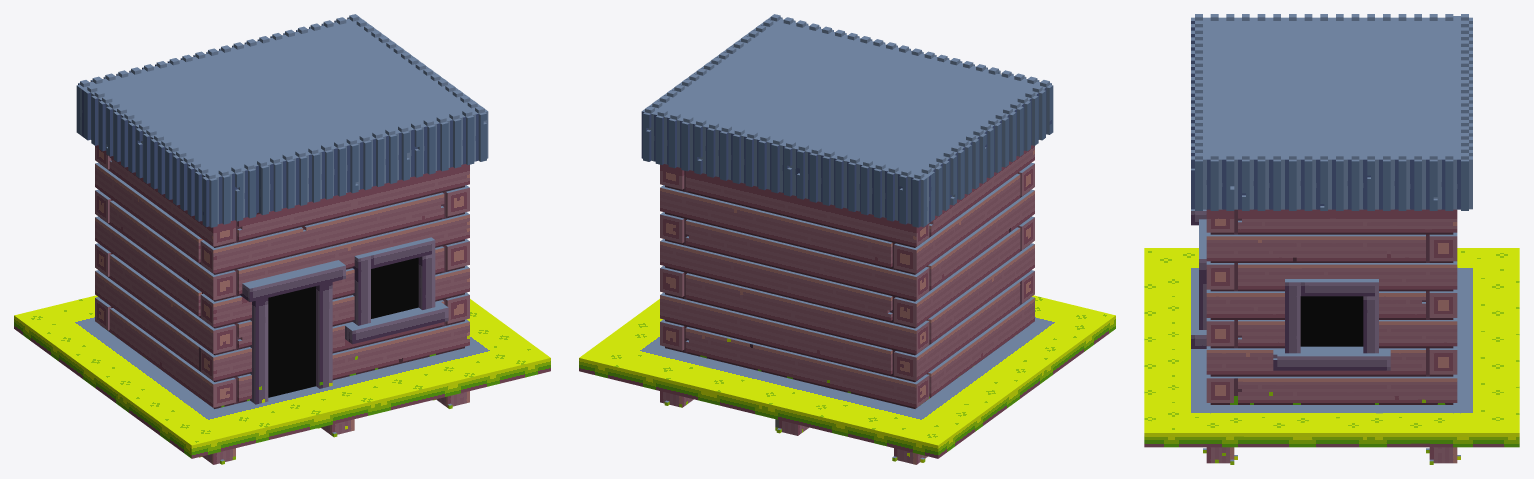
File: grave_cabin_natureao.fezao.glb
3 renders of one model, left to right at view 1: azimuth 30°, elevation 25°; view 2: azimuth 150°, elevation 25°; view 3: azimuth 270°, elevation 25°, orthographic. The views are drawn at different scales.
Visible parts, largest first — view 1: GRAVE_CABIN_NATUREAO; view 2: GRAVE_CABIN_NATUREAO; view 3: GRAVE_CABIN_NATUREAO.
Boxes of the visible parts, box(x1,y1,x2,y2) form: GRAVE_CABIN_NATUREAO: box(14, 14, 550, 464); GRAVE_CABIN_NATUREAO: box(579, 14, 1115, 464); GRAVE_CABIN_NATUREAO: box(1144, 14, 1519, 464).
Bounding box in the file's own units: 7 × 5.5 × 6.
Materials: 1 (1 with a texture image).
